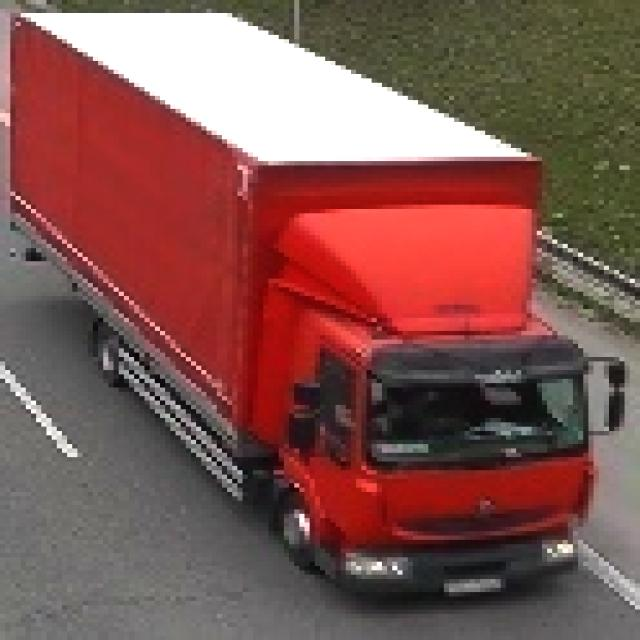truck: (1, 5, 620, 597)
